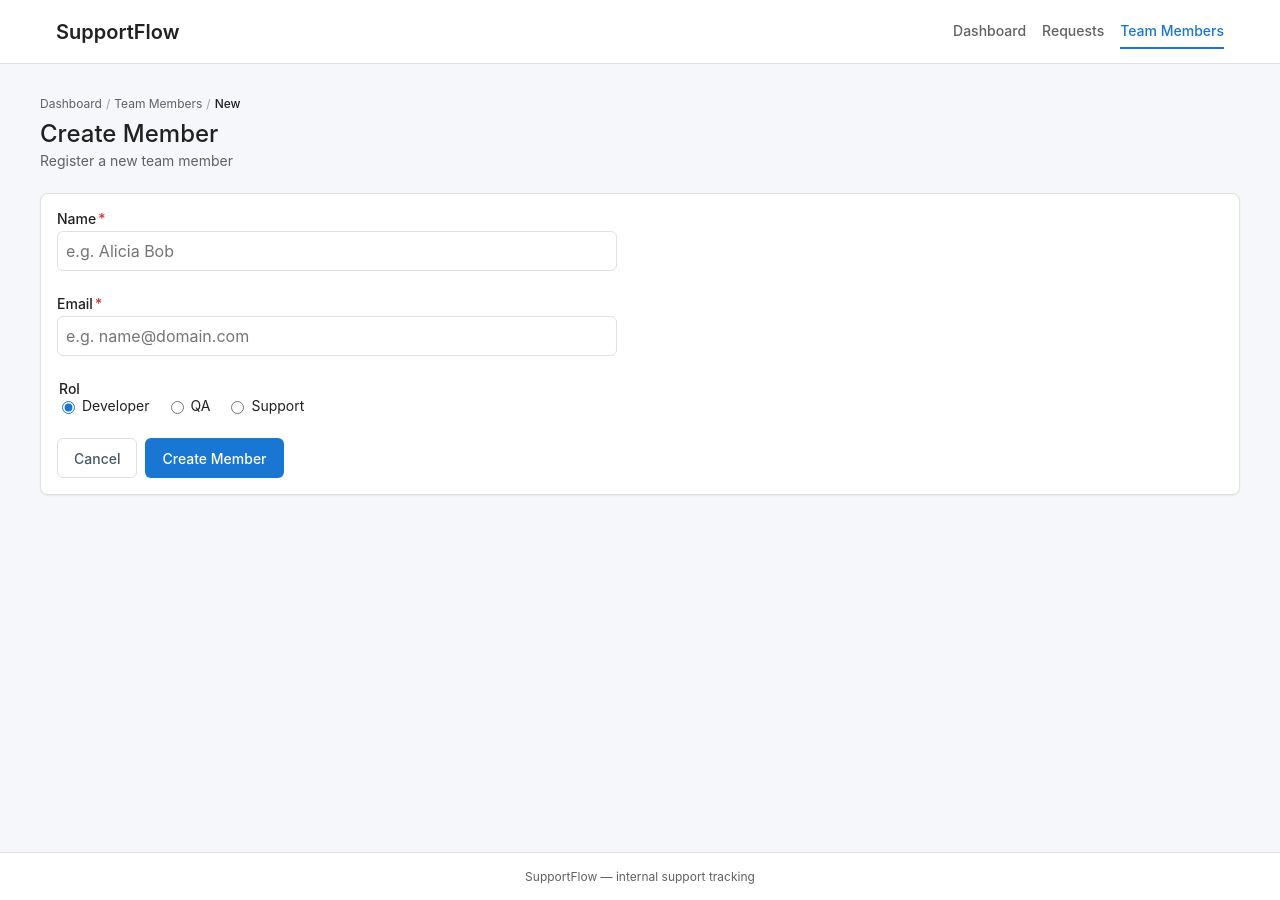
Test: TeamMemberForm › create mode › shows validation errors instead of submitting when fields are empty
Click the button "Create Member" at (214, 458), box 146,438 -> 284,478
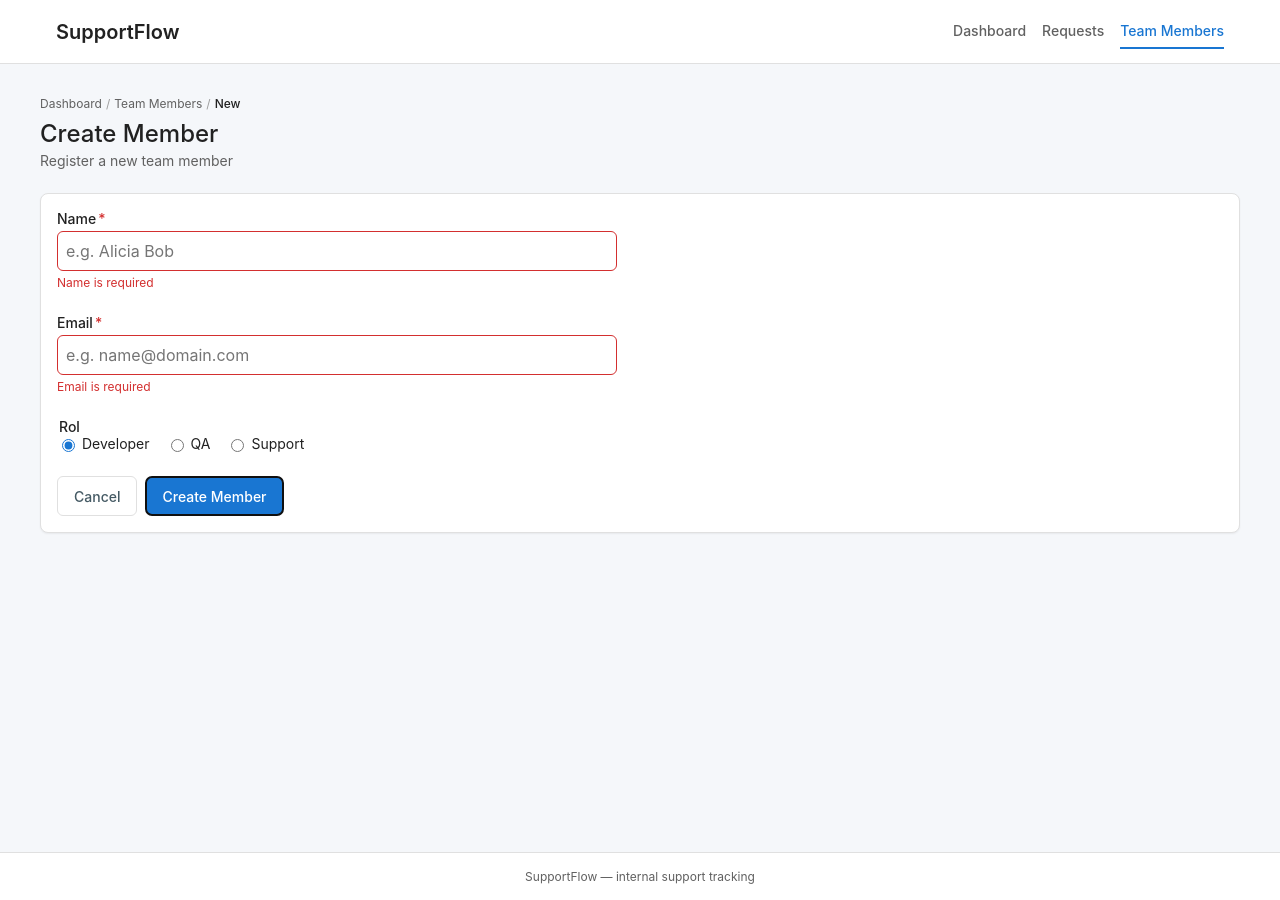
Check: the text "Name is required" is shown, box 57,275 -> 154,290
Check: the text "Email is required" is shown, box 57,379 -> 151,394
